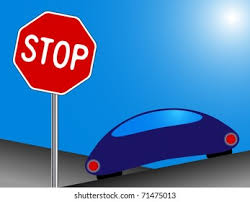stop sign: (13, 10, 98, 96)
